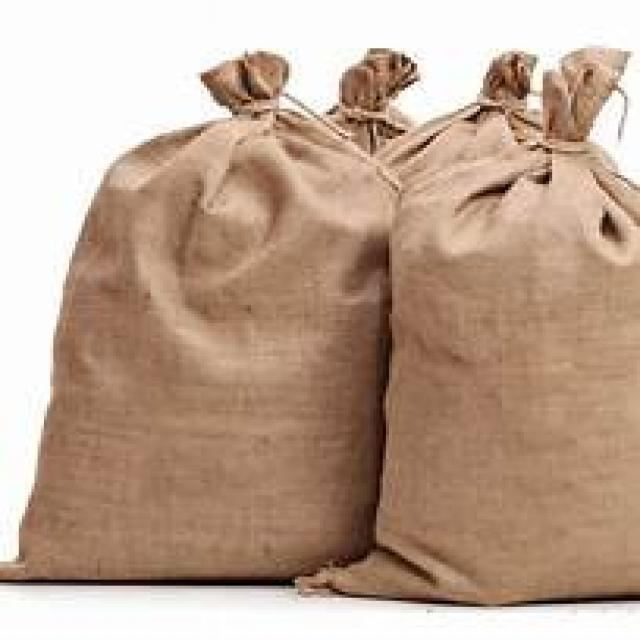gunny_bag: (0, 51, 403, 583), (296, 43, 637, 604)
